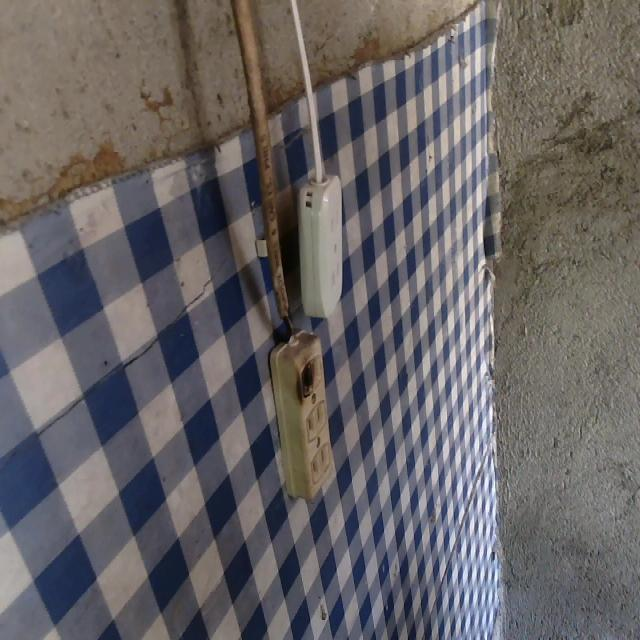-: (295, 354, 317, 406)
